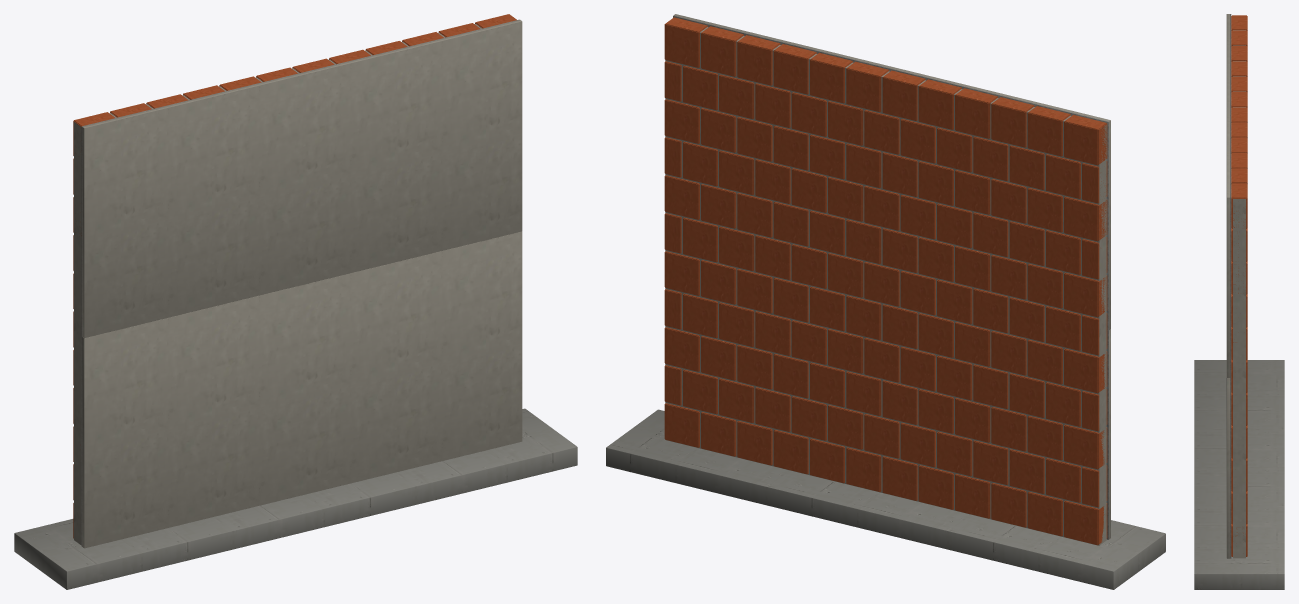
File: KIT-REV-02_lod1.glb
3 renders of one model, left to right at view 1: azimuth 30°, elevation 25°; view 2: azimuth 150°, elevation 25°; view 3: azimuth 270°, elevation 25°, orthographic. The views are drawn at different scales.
Visible parts, largest first — view 1: KIT-REV-02_emboco_sup, KIT-REV-02_emboco_inf, KIT-REV-02_base, KIT-REV-02_argamassa_juntas, KIT-REV-02_chapisco; view 2: KIT-REV-02_base, KIT-REV-02_argamassa_juntas, KIT-REV-02_chapisco, KIT-REV-02_p125, KIT-REV-02_p131, KIT-REV-02_p126, KIT-REV-02_p129, KIT-REV-02_p130, KIT-REV-02_p135, KIT-REV-02_p128, KIT-REV-02_p134, KIT-REV-02_p133 (+124 smaller); view 3: KIT-REV-02_base, KIT-REV-02_argamassa_juntas, KIT-REV-02_emboco_sup, KIT-REV-02_chapisco, KIT-REV-02_emboco_inf, KIT-REV-02_p136, KIT-REV-02_p126, KIT-REV-02_p128, KIT-REV-02_p129, KIT-REV-02_p131, KIT-REV-02_p132, KIT-REV-02_p133 (+5 smaller).
Boxes of the visible parts, x1=… form: KIT-REV-02_emboco_sup: x1=82, y1=20, x2=522, y2=338; KIT-REV-02_emboco_inf: x1=82, y1=231, x2=522, y2=548; KIT-REV-02_base: x1=14, y1=408, x2=577, y2=589; KIT-REV-02_argamassa_juntas: x1=74, y1=24, x2=481, y2=545; KIT-REV-02_chapisco: x1=81, y1=19, x2=519, y2=546; KIT-REV-02_base: x1=606, y1=409, x2=1165, y2=589; KIT-REV-02_argamassa_juntas: x1=665, y1=27, x2=1106, y2=545; KIT-REV-02_chapisco: x1=673, y1=15, x2=1108, y2=539; KIT-REV-02_p125: x1=1064, y1=115, x2=1107, y2=165; KIT-REV-02_p131: x1=846, y1=61, x2=889, y2=111; KIT-REV-02_p126: x1=1027, y1=106, x2=1070, y2=156; KIT-REV-02_p129: x1=918, y1=79, x2=961, y2=129; KIT-REV-02_p130: x1=882, y1=70, x2=925, y2=120; KIT-REV-02_p135: x1=701, y1=26, x2=744, y2=76; KIT-REV-02_p128: x1=955, y1=88, x2=998, y2=138; KIT-REV-02_p134: x1=737, y1=35, x2=780, y2=85; KIT-REV-02_p133: x1=773, y1=44, x2=816, y2=94; KIT-REV-02_base: x1=1194, y1=360, x2=1284, y2=589; KIT-REV-02_argamassa_juntas: x1=1233, y1=30, x2=1245, y2=558; KIT-REV-02_emboco_sup: x1=1226, y1=14, x2=1230, y2=377; KIT-REV-02_chapisco: x1=1230, y1=14, x2=1231, y2=558; KIT-REV-02_emboco_inf: x1=1226, y1=378, x2=1230, y2=558; KIT-REV-02_p136: x1=1231, y1=183, x2=1247, y2=228; KIT-REV-02_p126: x1=1231, y1=30, x2=1247, y2=46; KIT-REV-02_p128: x1=1231, y1=61, x2=1247, y2=76; KIT-REV-02_p129: x1=1231, y1=76, x2=1247, y2=92; KIT-REV-02_p131: x1=1231, y1=107, x2=1247, y2=122; KIT-REV-02_p132: x1=1231, y1=122, x2=1247, y2=138; KIT-REV-02_p133: x1=1231, y1=137, x2=1247, y2=153.
Size of the model in its own units: 2.8 by 2.3 by 0.5001.
4 materials, 4 textured.
